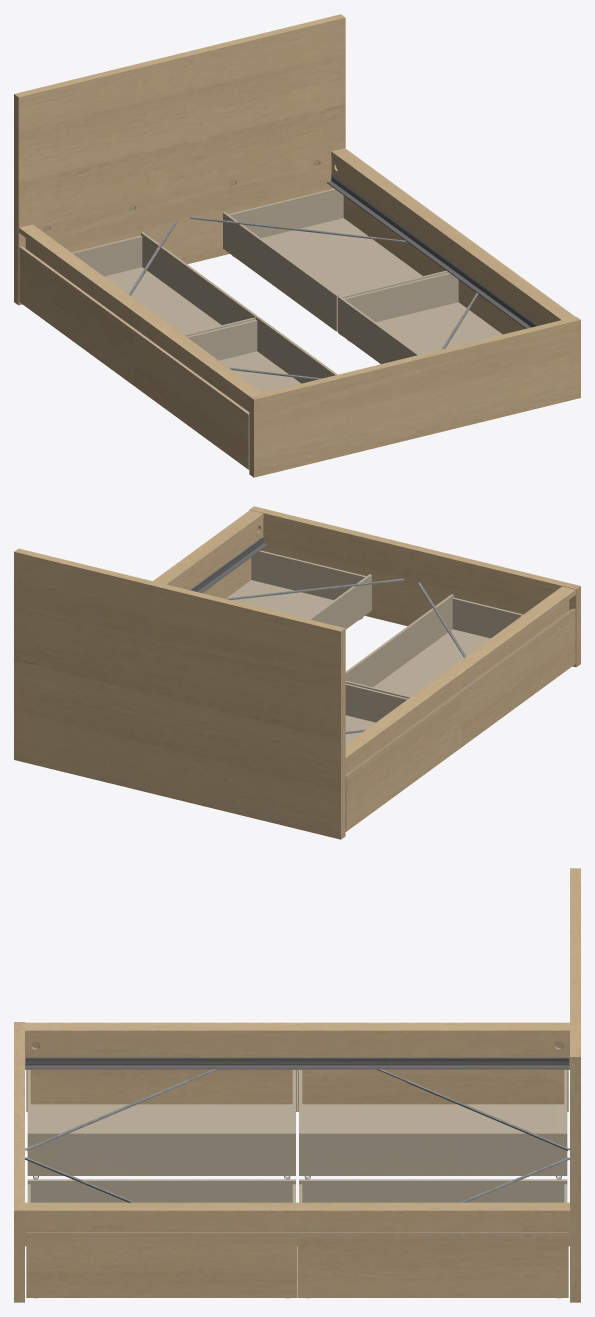
The model's file is 04 - MALM - 高床框附2收納盒, 實木貼皮, 染白橡木150x200 IKEA 線上購物.glb.
3 renders of one model, top to bottom at view 1: azimuth 30°, elevation 25°; view 2: azimuth 150°, elevation 25°; view 3: azimuth 270°, elevation 25°, orthographic. The views are drawn at different scales.
Visible parts, largest first — view 1: Mesh_0; view 2: Mesh_0; view 3: Mesh_0.
Boxes of the visible parts, box(x1,y1,x2,y2) form: Mesh_0: box(14, 14, 580, 477); Mesh_0: box(14, 506, 580, 839); Mesh_0: box(14, 868, 580, 1302).
Bounding box in the file's own units: 1.64 × 1 × 2.09.
Materials: 1 (1 with a texture image).
